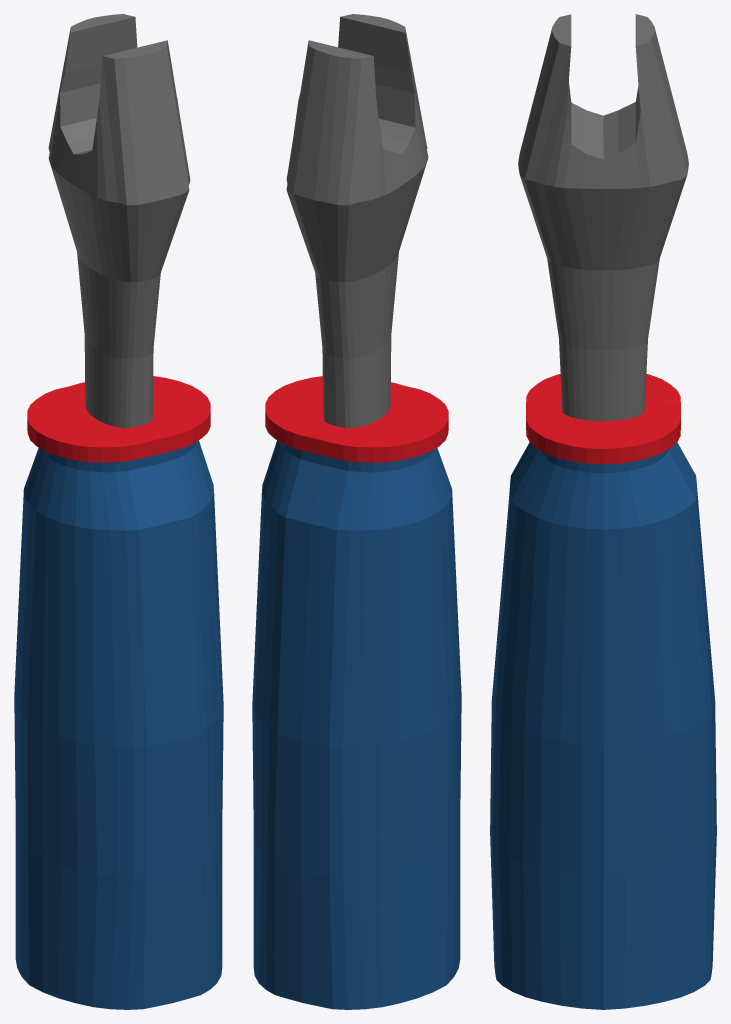
File: ChavedeInglesa.fbx
The picture shows the model from 3 angles, left to right: view 1: azimuth 30°, elevation 25°; view 2: azimuth 150°, elevation 25°; view 3: azimuth 270°, elevation 25°; orthographic projection.
Parts seen in each view (by area): view 1: Cilindro; view 2: Cilindro; view 3: Cilindro.
Boxes of the visible parts, left/top/right/bottom form: Cilindro: left=14, top=14, right=223, bottom=1009; Cilindro: left=252, top=14, right=461, bottom=1009; Cilindro: left=490, top=14, right=716, bottom=1009.
Bounding box in the file's own units: 2.74 × 2.92 × 13.29.
